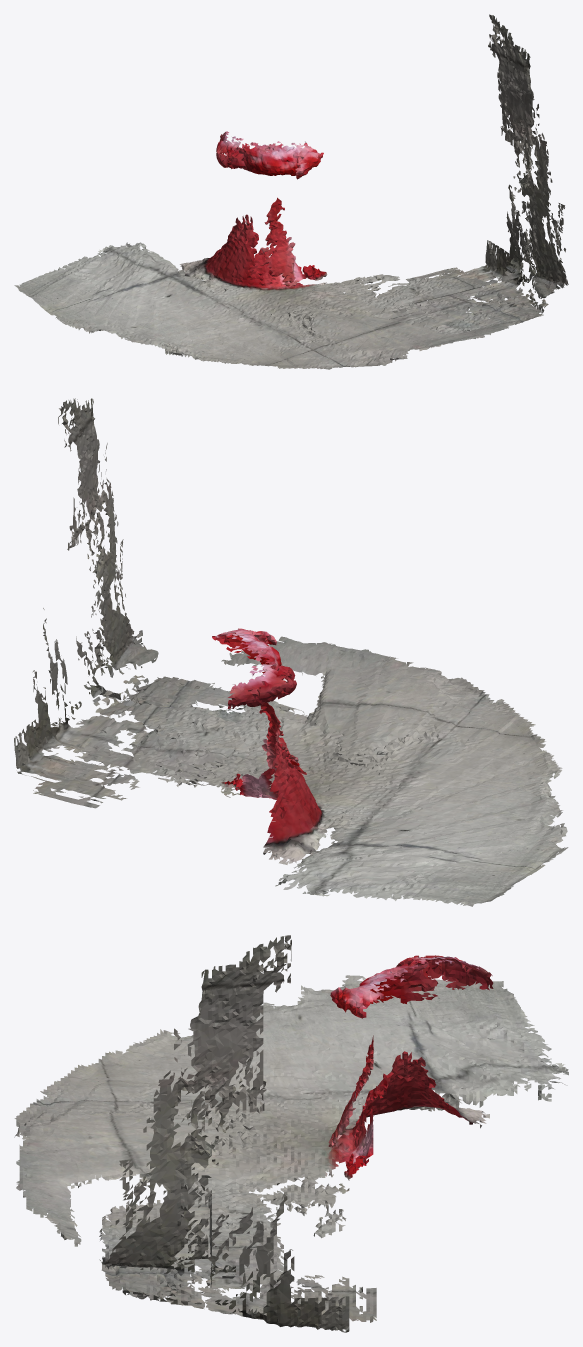
3 views of the same model, one above another, from view 1: azimuth 30°, elevation 25°; view 2: azimuth 150°, elevation 25°; view 3: azimuth 270°, elevation 25° (orthographic). The views are drawn at different scales.
Visible parts, largest first — view 1: mesh; view 2: mesh; view 3: mesh.
Boxes of the visible parts, left/top/right/bottom form: mesh: left=14, top=14, right=568, bottom=369; mesh: left=14, top=398, right=568, bottom=906; mesh: left=14, top=935, right=568, bottom=1332.
Size of the model in its own units: 5.15 by 3.14 by 4.04.
1 material, 1 textured.
